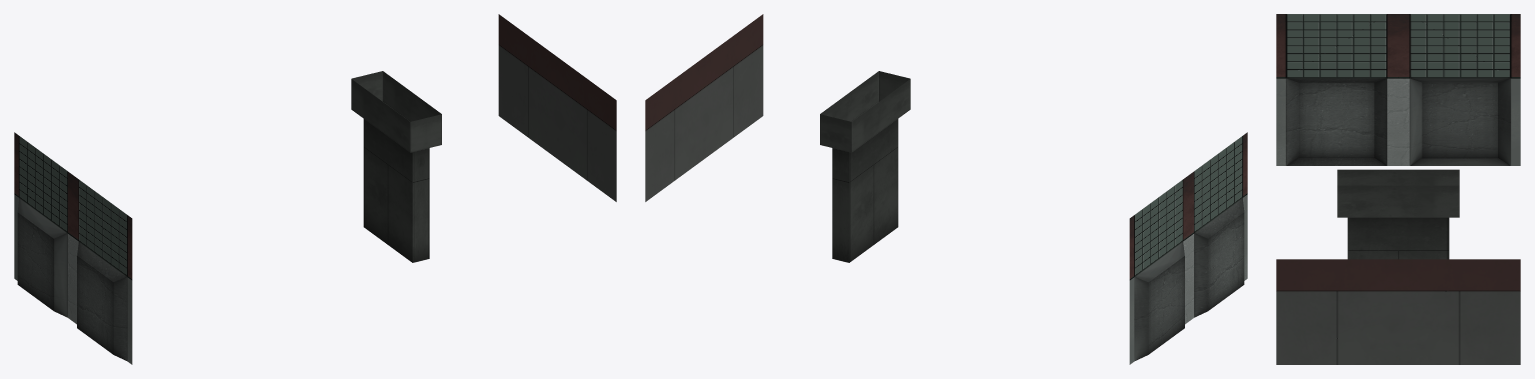
Rendered from wall.fbx.
3 renders of one model, left to right at view 1: azimuth 30°, elevation 25°; view 2: azimuth 150°, elevation 25°; view 3: azimuth 270°, elevation 25°, orthographic. The views are drawn at different scales.
Visible parts, largest first — view 1: pPlane11, pPlane18, polySurface41; view 2: pPlane11, pPlane18, polySurface41; view 3: pPlane11, pPlane18, polySurface41.
Part boxes in pixels (x1,y1,x2,y2): pPlane11: [14, 132, 132, 364]; pPlane18: [498, 14, 616, 201]; polySurface41: [351, 71, 441, 262]; pPlane11: [1129, 132, 1247, 364]; pPlane18: [645, 14, 763, 201]; polySurface41: [820, 71, 910, 262]; pPlane11: [1276, 14, 1520, 165]; pPlane18: [1276, 259, 1520, 364]; polySurface41: [1337, 169, 1459, 259].
Bounding box in the file's own units: 57.85 × 16.46 × 24.
